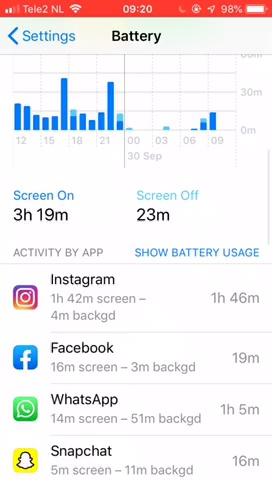app: (8, 272, 264, 321), (10, 336, 268, 375), (12, 387, 270, 426), (10, 438, 268, 477)
